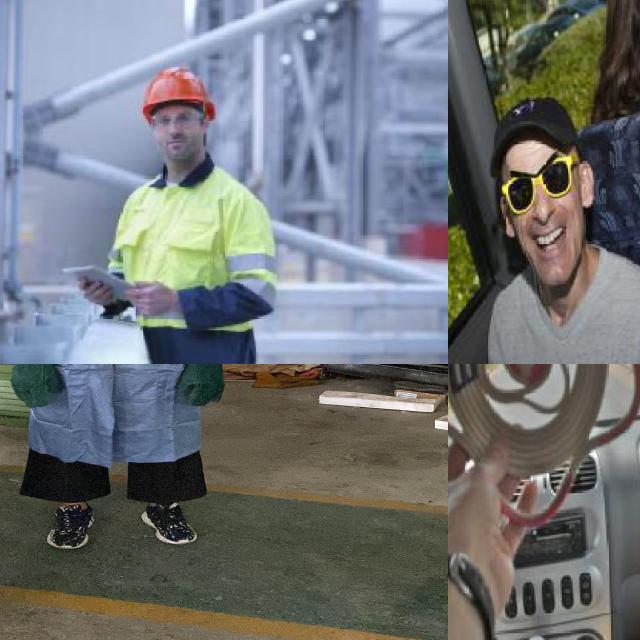No_Ear-Protection: (200, 115, 210, 133)
No_Glasses: (155, 111, 198, 130)
face_nomask: (504, 168, 589, 266), (155, 128, 201, 159)
glasses: (490, 158, 580, 213)
hand_glove: (1, 364, 72, 412), (168, 364, 232, 409)
hand_noglove: (448, 420, 538, 588), (126, 282, 181, 317), (80, 280, 113, 306)
head_helmet: (142, 67, 217, 122)
head_nohelmet: (484, 101, 578, 162)
person: (455, 78, 640, 364), (0, 364, 266, 557)
shoes: (130, 500, 205, 550), (40, 499, 104, 552)
